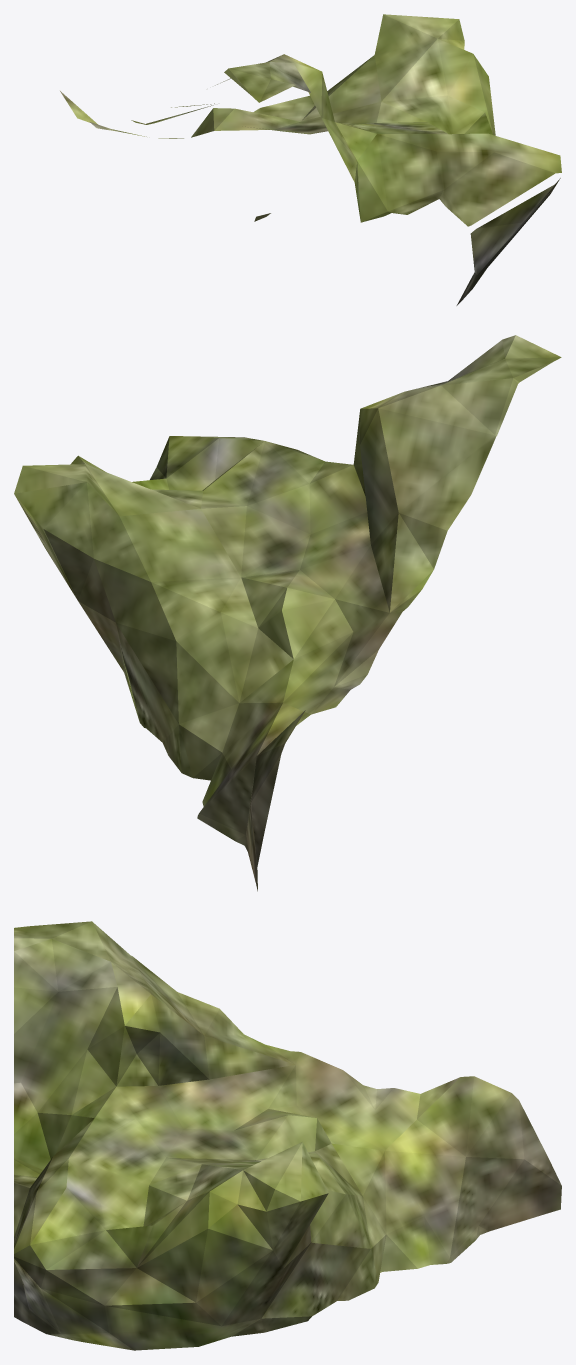
The picture shows the model from 3 angles, top to bottom: view 1: azimuth 30°, elevation 25°; view 2: azimuth 150°, elevation 25°; view 3: azimuth 270°, elevation 25°; orthographic projection. The views are drawn at different scales.
Bounding box in the file's own units: 0.9016 × 0.7051 × 1.2.
Materials: 1 (1 with a texture image).
